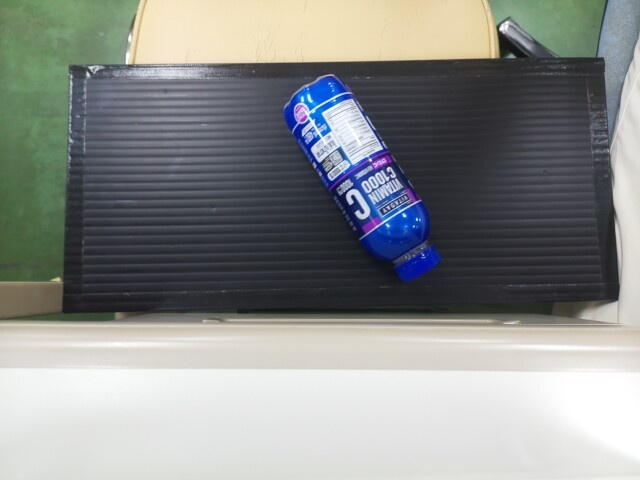plastic_bottle: (279, 68, 433, 275)
